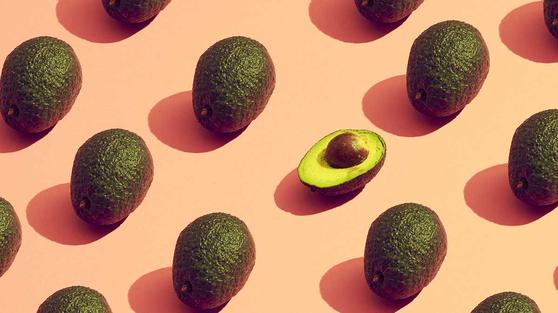avocado: (193, 34, 276, 139)
